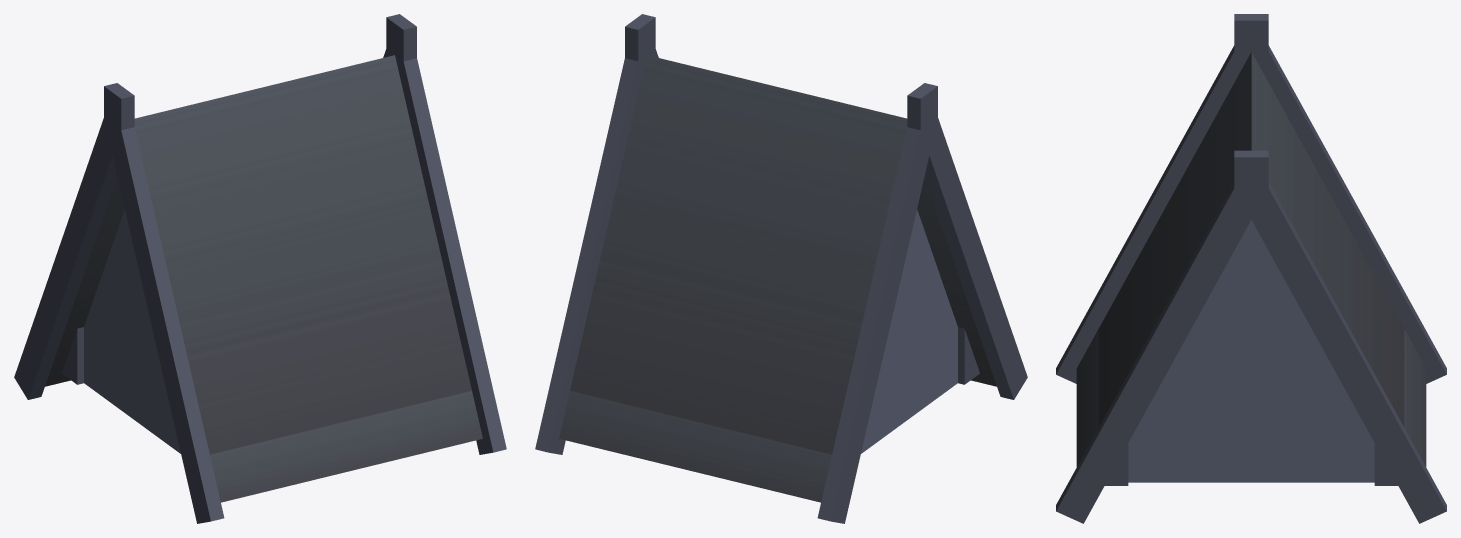
Rendered from roof-high-gable-detail.glb.
3 views of the same model, side by side, from view 1: azimuth 30°, elevation 25°; view 2: azimuth 150°, elevation 25°; view 3: azimuth 270°, elevation 25° (orthographic).
Visible parts, largest first — view 1: roof-high-gable-detail; view 2: roof-high-gable-detail; view 3: roof-high-gable-detail.
Boxes of the visible parts, x1,y1,x2,y2 form: roof-high-gable-detail: (14, 14, 506, 523); roof-high-gable-detail: (535, 14, 1027, 523); roof-high-gable-detail: (1056, 14, 1446, 523).
Size of the model in its own units: 1.1 by 1.31 by 1.27.
1 material, 1 textured.
